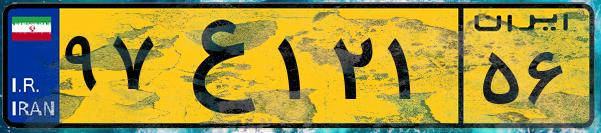1: (270, 28, 330, 110), (385, 28, 445, 110)
2: (330, 28, 385, 110)
5: (475, 38, 525, 113)
6: (525, 38, 570, 115)
7: (110, 28, 158, 98)
9: (57, 26, 110, 100)
ع: (158, 12, 270, 120)
